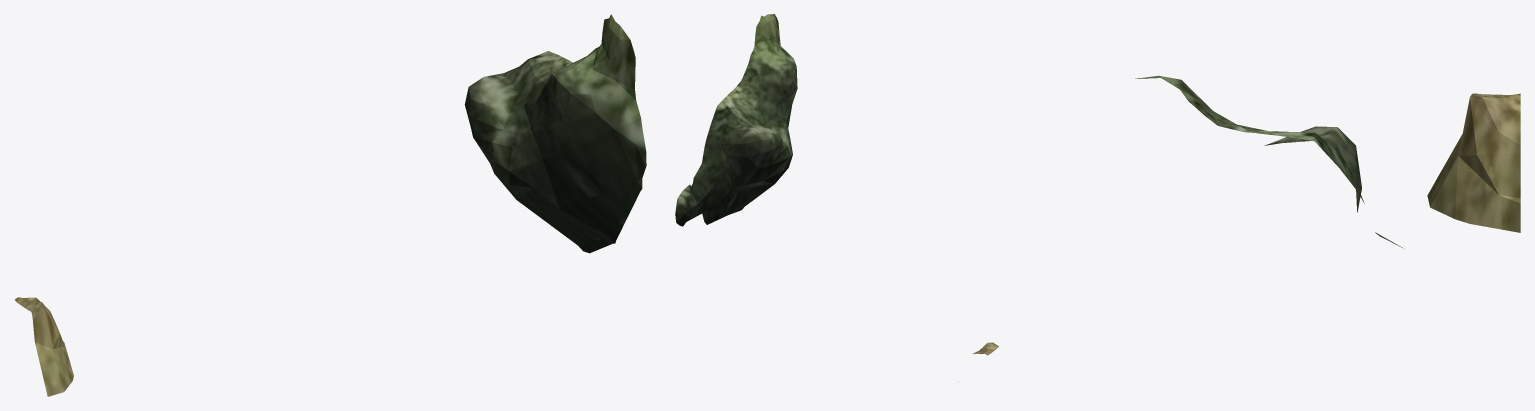
The picture shows the model from 3 angles, left to right: view 1: azimuth 30°, elevation 25°; view 2: azimuth 150°, elevation 25°; view 3: azimuth 270°, elevation 25°; orthographic projection. The views are drawn at different scales.
Bounding box in the file's own units: 2.95 × 2.12 × 1.91.
Materials: 1 (1 with a texture image).
